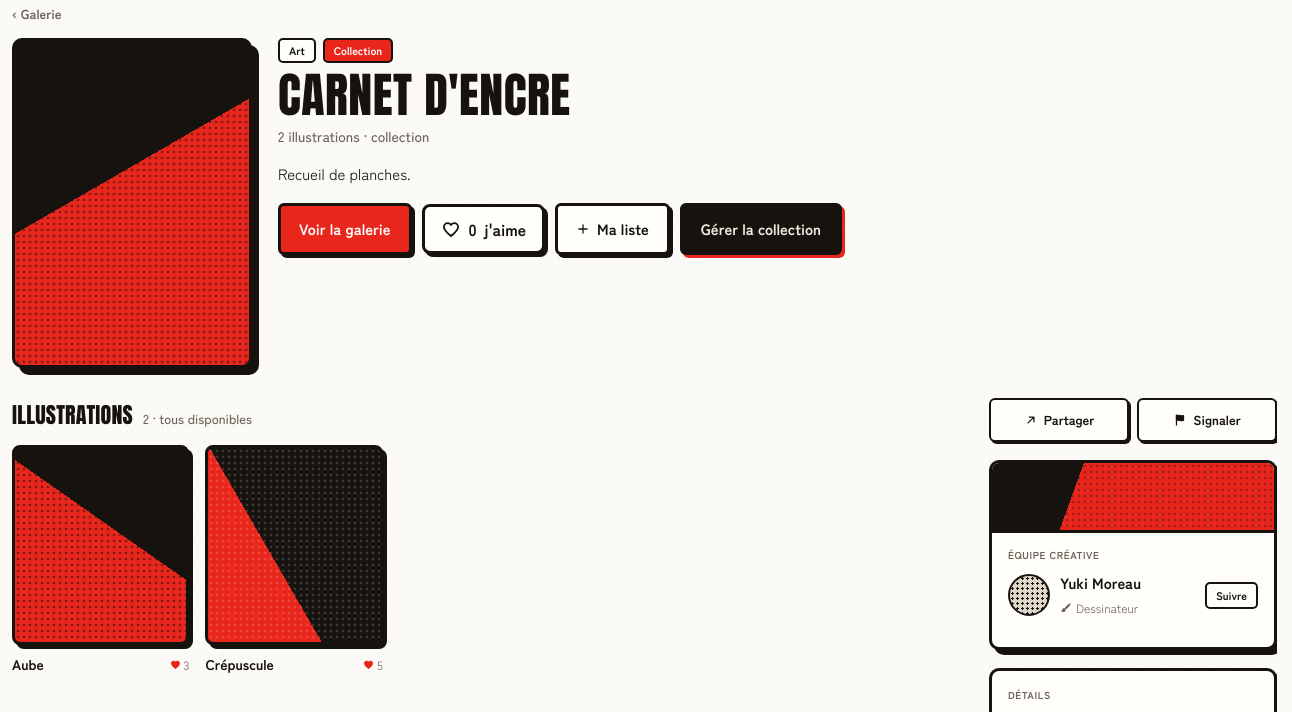
Test: CollectionOeuvre (DR-12 V3) › renders the "Ma liste" save toggle bound to the work reaction
The image size is (1292, 712).
Click the button with aria-label "Ajouter à ma liste": point(612, 229) [555,203,670,255]
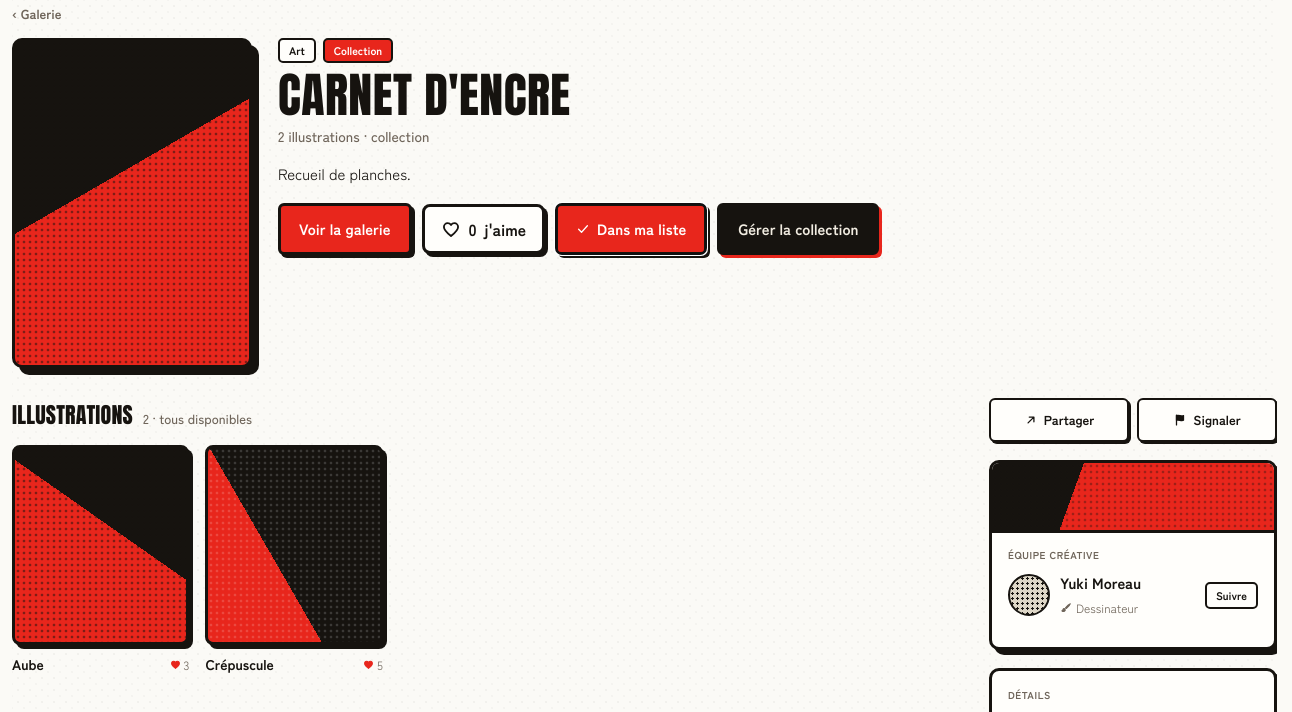
expect the button with aria-label "Retirer de ma liste" reads "Dans ma liste": met, box [555,203,707,255]
